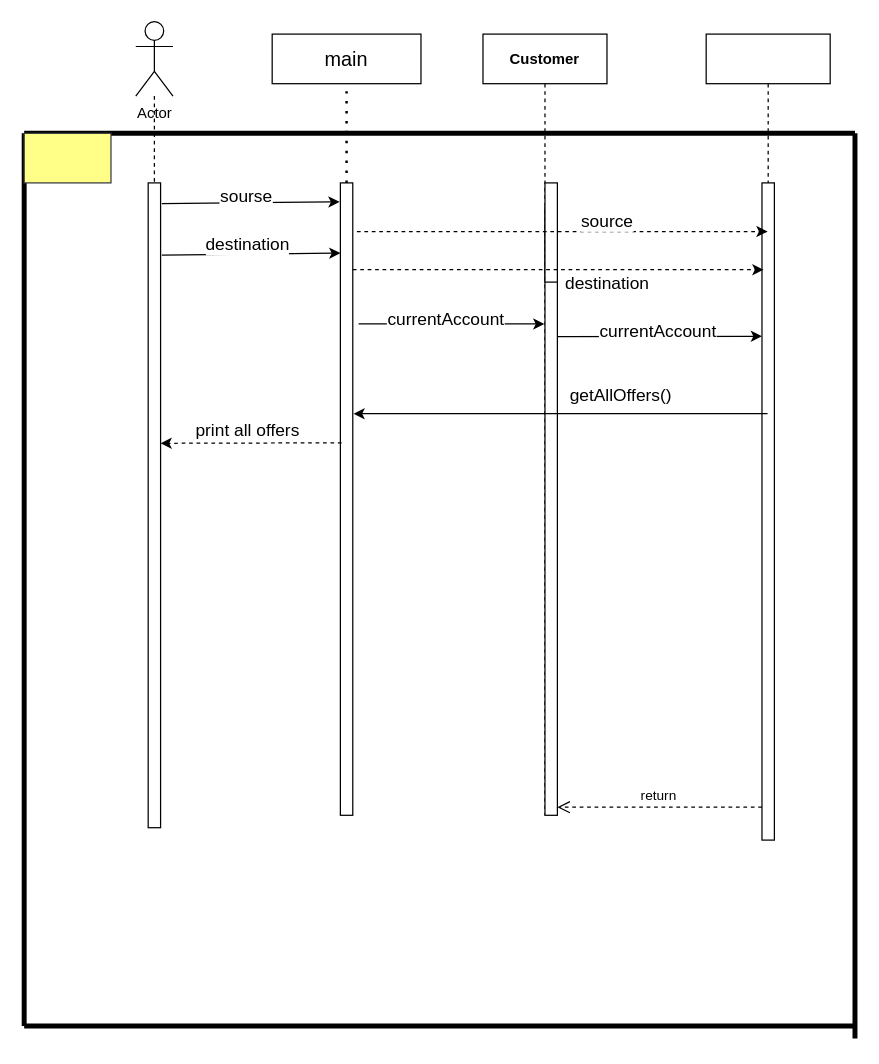
Image size: 879x1064. Some labels were removed from this diagram. Each missing label, with the box of its shape:
Request: (705, 33, 830, 790)
request ride: (23, 132, 111, 183)
